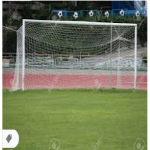goals: (12, 18, 139, 95)
